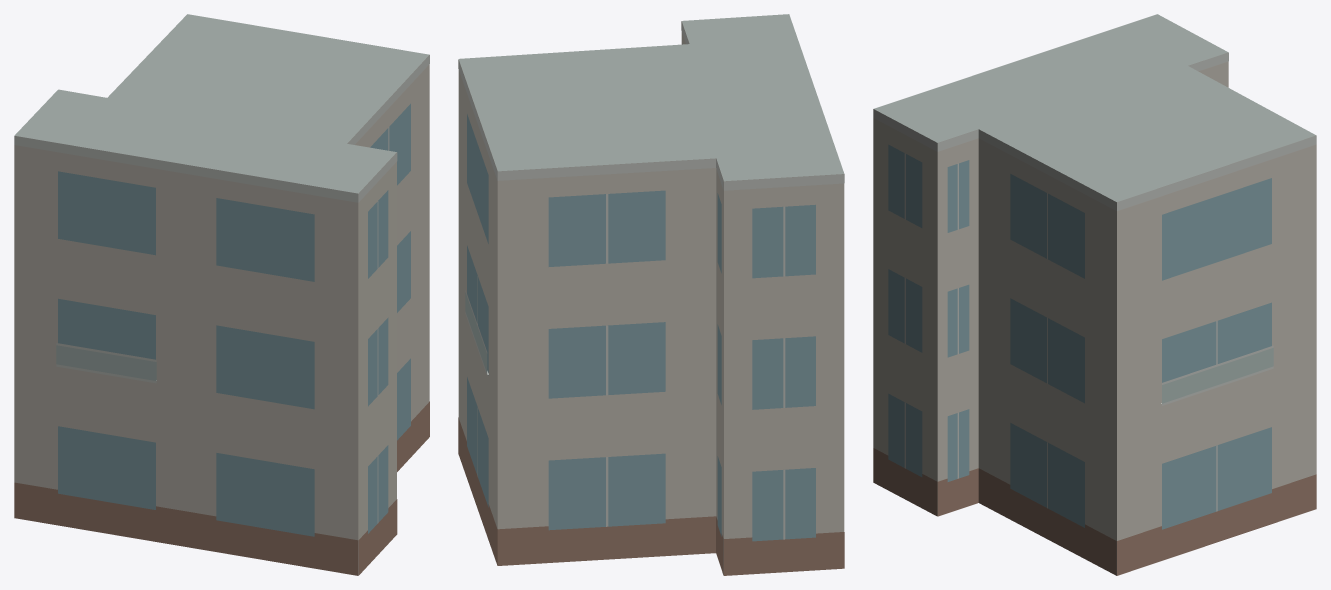
The model's file is survey-upis-32489938.glb.
3 renders of one model, left to right at view 1: azimuth 30°, elevation 25°; view 2: azimuth 150°, elevation 25°; view 3: azimuth 270°, elevation 25°, orthographic. The views are drawn at different scales.
Visible parts, largest first — view 1: survey-upis-32489938.tmp; view 2: survey-upis-32489938.tmp; view 3: survey-upis-32489938.tmp.
Part boxes in pixels (x1,y1,x2,y2): survey-upis-32489938.tmp: (14,14,429,575); survey-upis-32489938.tmp: (458,14,844,575); survey-upis-32489938.tmp: (873,14,1316,575).
Size of the model in its own units: 10.92 by 10.1 by 10.87.
